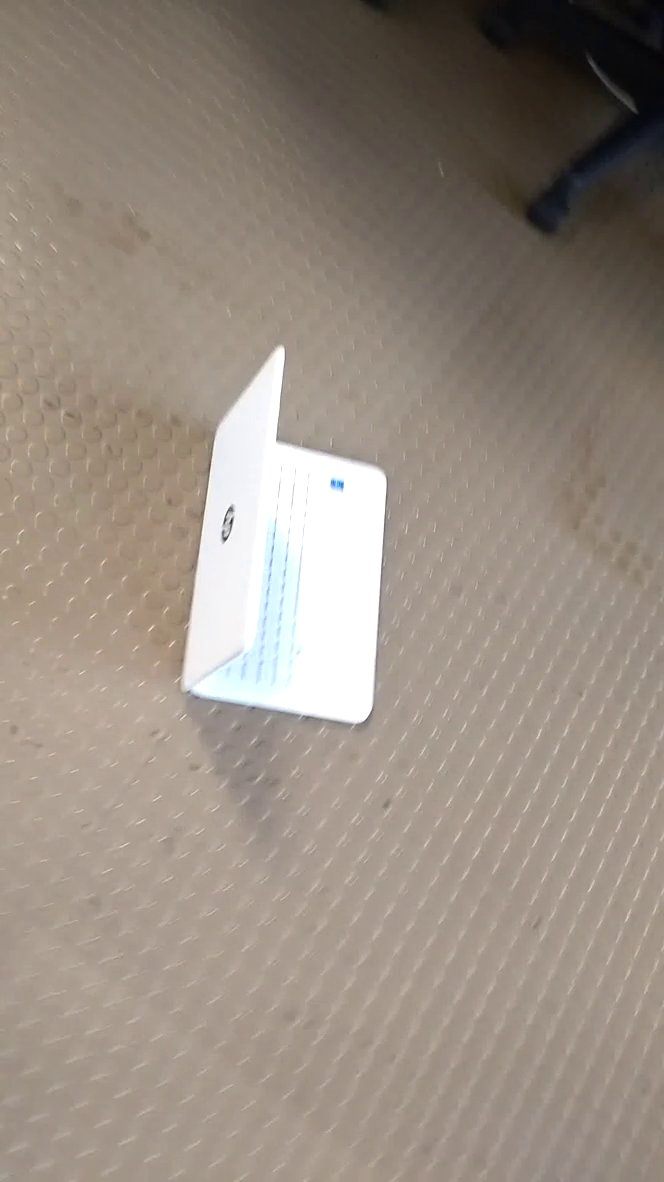laptop: (174, 336, 394, 736)
